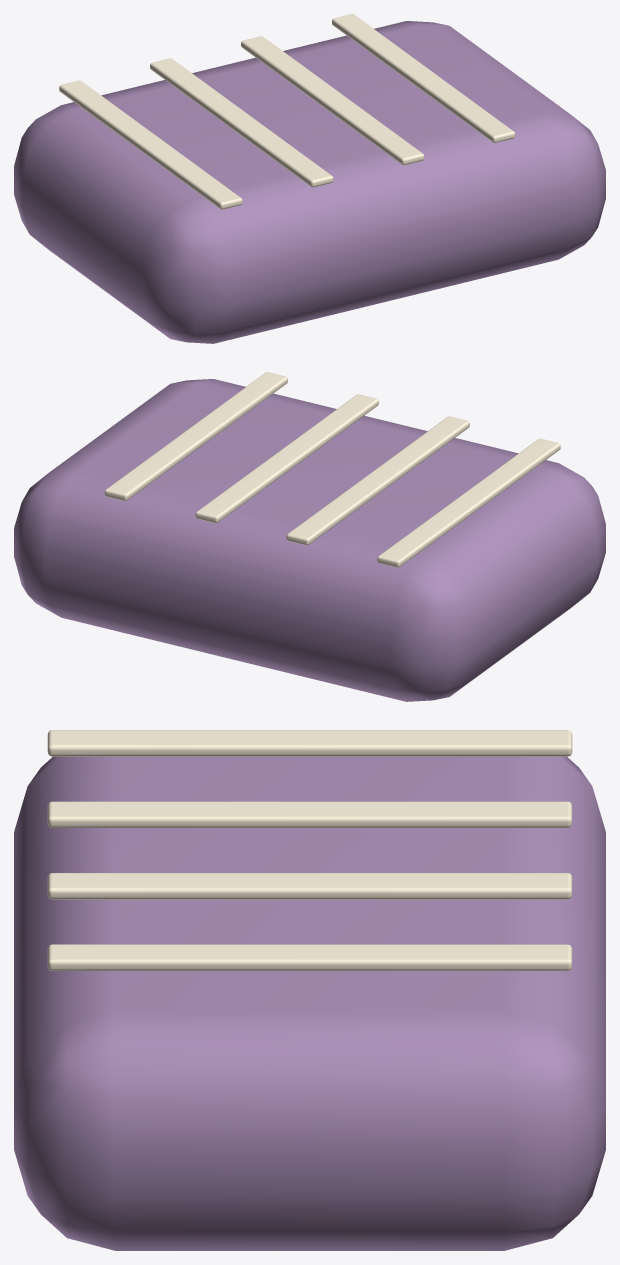
The model's file is word-blanket.glb.
3 views of the same model, one above another, from view 1: azimuth 30°, elevation 25°; view 2: azimuth 150°, elevation 25°; view 3: azimuth 270°, elevation 25° (orthographic). The views are drawn at different scales.
Visible parts, largest first — view 1: folded blanket, blanket stripe, blanket stripe.001, blanket stripe.002, blanket stripe.003; view 2: folded blanket, blanket stripe, blanket stripe.001, blanket stripe.002, blanket stripe.003; view 3: folded blanket, blanket stripe, blanket stripe.001, blanket stripe.002, blanket stripe.003.
Part boxes in pixels (x1,y1,x2,y2): folded blanket: [14, 21, 605, 343]; blanket stripe: [59, 80, 242, 209]; blanket stripe.001: [150, 58, 333, 187]; blanket stripe.002: [241, 36, 424, 165]; blanket stripe.003: [332, 14, 515, 142]; folded blanket: [14, 379, 605, 701]; blanket stripe: [377, 438, 560, 567]; blanket stripe.001: [286, 416, 469, 545]; blanket stripe.002: [195, 394, 378, 523]; blanket stripe.003: [104, 372, 287, 500]; folded blanket: [14, 756, 605, 1250]; blanket stripe: [47, 730, 572, 756]; blanket stripe.001: [47, 801, 572, 827]; blanket stripe.002: [47, 873, 572, 899]; blanket stripe.003: [47, 944, 572, 970].
Size of the model in its own units: 1 by 0.3175 by 0.7.
